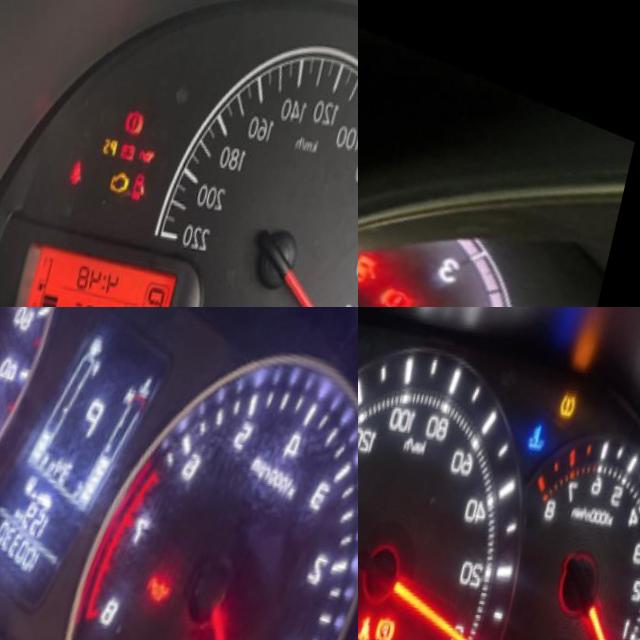Doors: (358, 230, 399, 279)
High Engine Coolant Temperature: (532, 404, 562, 444)
Seat Belt: (373, 603, 395, 637)
